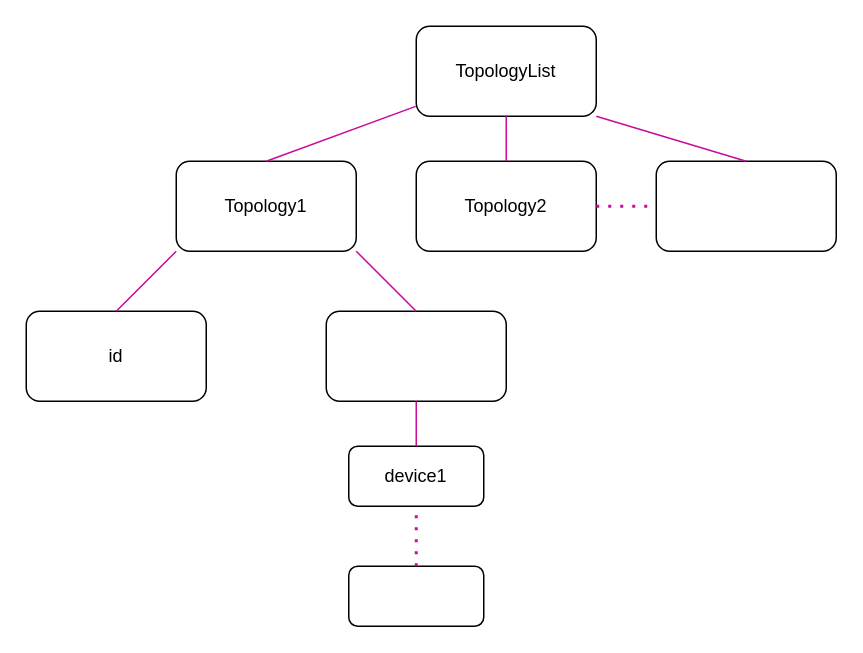
This 863x653 diagram has some shape labels left out. Each missing label, with the centre of its shape:
"devicen" belongs at point (415, 595).
"devices" belongs at point (415, 355).
"Topologyn" belongs at point (745, 205).
